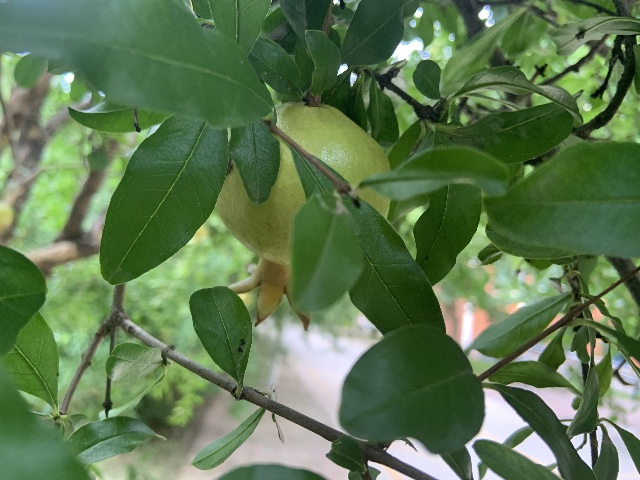mid-growth: (216, 105, 394, 333)
